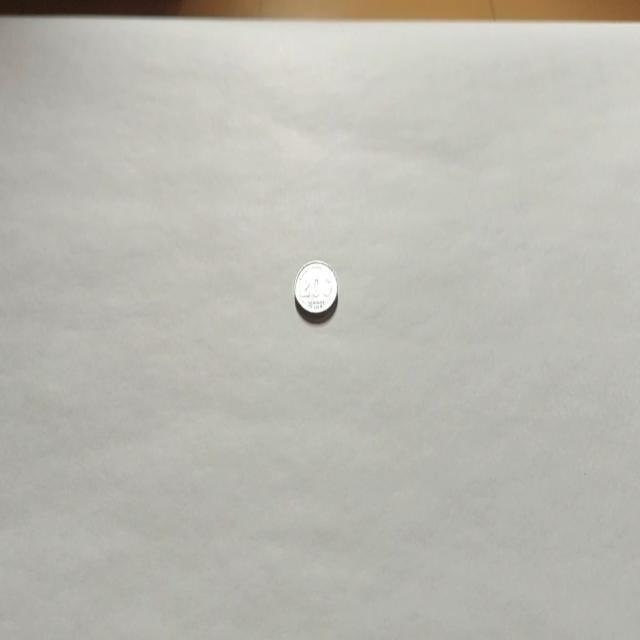dua ratus rupiah: (293, 258, 338, 322)
